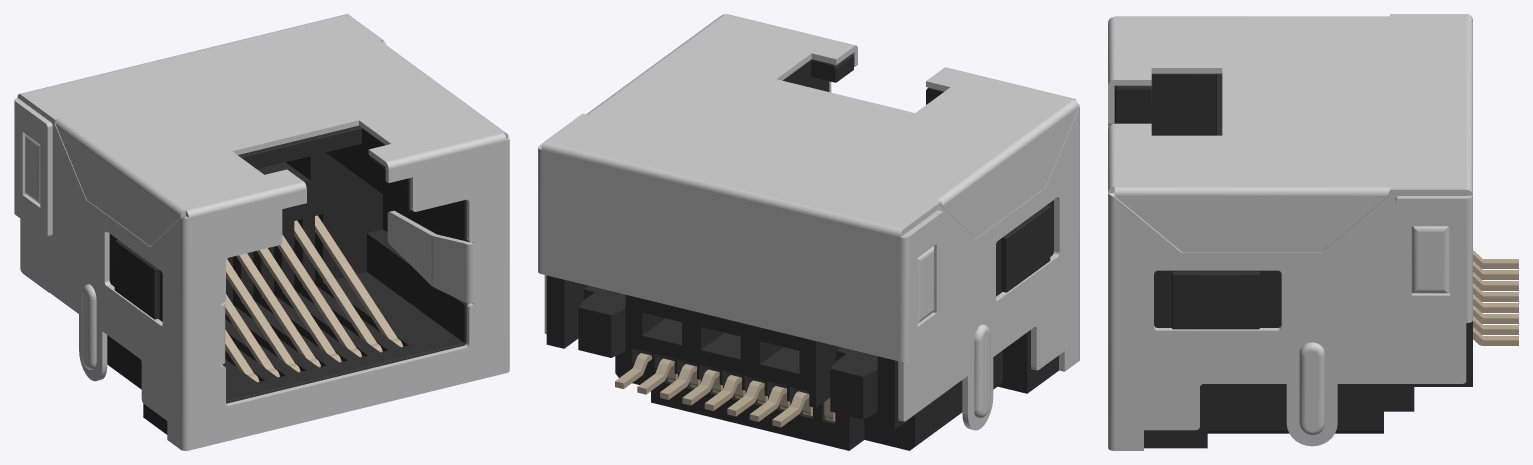
The model's file is sfe-rj45_ethernet_mid_mount_smd.glb.
3 views of the same model, side by side, from view 1: azimuth 30°, elevation 25°; view 2: azimuth 150°, elevation 25°; view 3: azimuth 270°, elevation 25° (orthographic). The views are drawn at different scales.
Parts seen in each view (by area): view 1: 0.6666666666666666_0.6666666666666666_0.6666666666666666_0.8, 0_0_0_0, 0.5_0.4166666666666667_0.3333333333333333_0; view 2: 0.6666666666666666_0.6666666666666666_0.6666666666666666_0.8, 0_0_0_0, 0.5_0.4166666666666667_0.3333333333333333_0; view 3: 0.6666666666666666_0.6666666666666666_0.6666666666666666_0.8, 0_0_0_0, 0.5_0.4166666666666667_0.3333333333333333_0.
Boxes of the visible parts, x1,y1,x2,y2 form: 0.6666666666666666_0.6666666666666666_0.6666666666666666_0.8: [14, 14, 509, 450]; 0_0_0_0: [23, 125, 469, 434]; 0.5_0.4166666666666667_0.3333333333333333_0: [225, 215, 403, 382]; 0.6666666666666666_0.6666666666666666_0.6666666666666666_0.8: [538, 14, 1079, 430]; 0_0_0_0: [546, 53, 1058, 450]; 0.5_0.4166666666666667_0.3333333333333333_0: [615, 353, 835, 427]; 0.6666666666666666_0.6666666666666666_0.6666666666666666_0.8: [1108, 14, 1472, 450]; 0_0_0_0: [1114, 73, 1472, 448]; 0.5_0.4166666666666667_0.3333333333333333_0: [1473, 250, 1518, 345].
Bounding box in the file's own units: 1.68 × 1.13 × 1.61.
